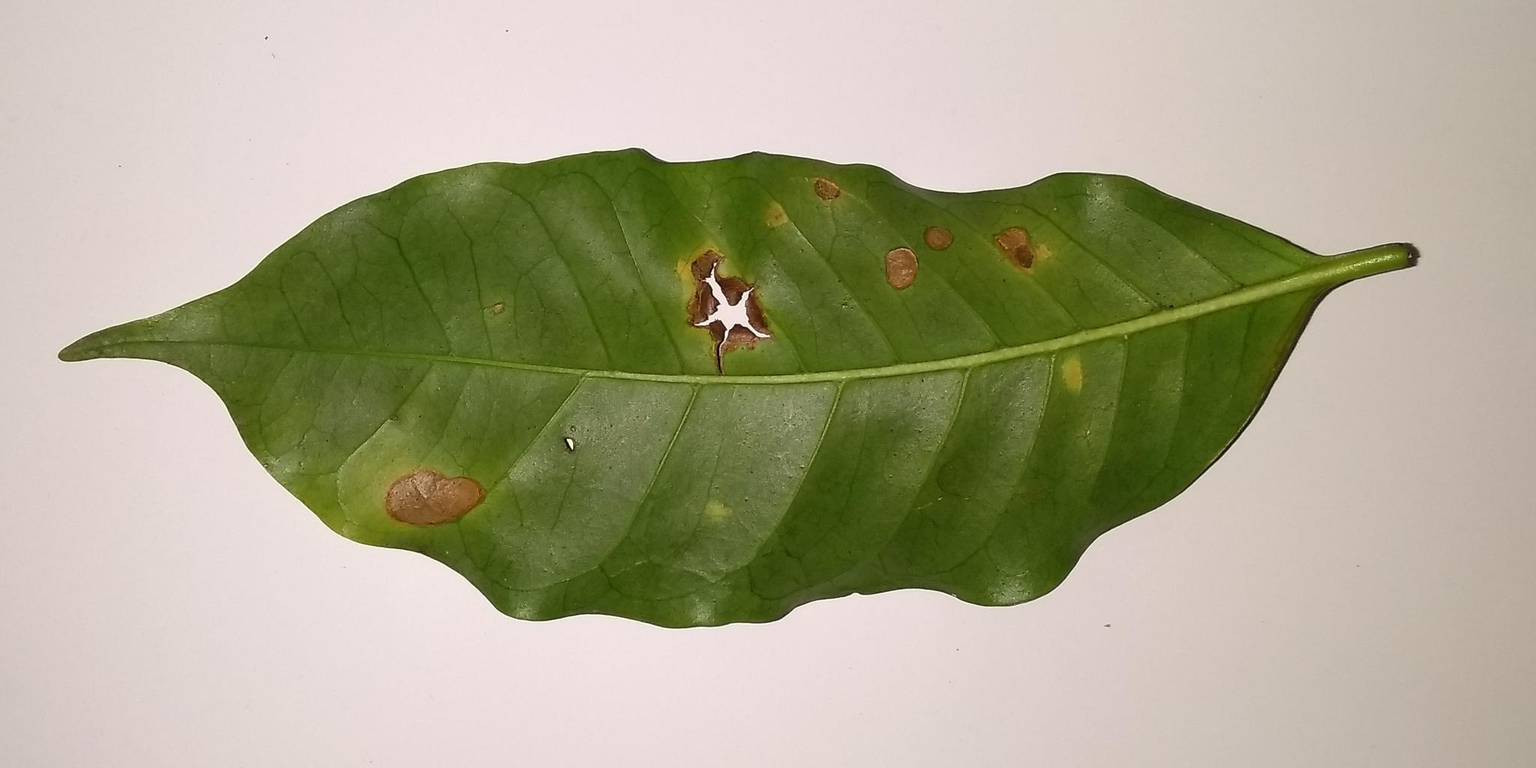Miner: (370, 460, 495, 532)
